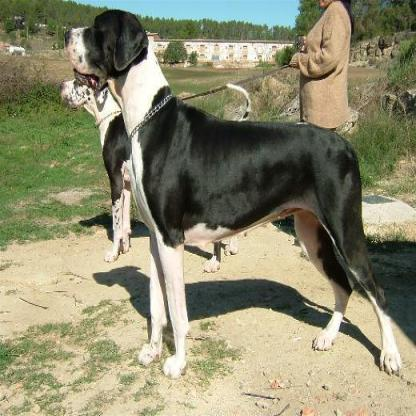Great_Dane: (64, 10, 403, 380), (58, 70, 253, 271)
